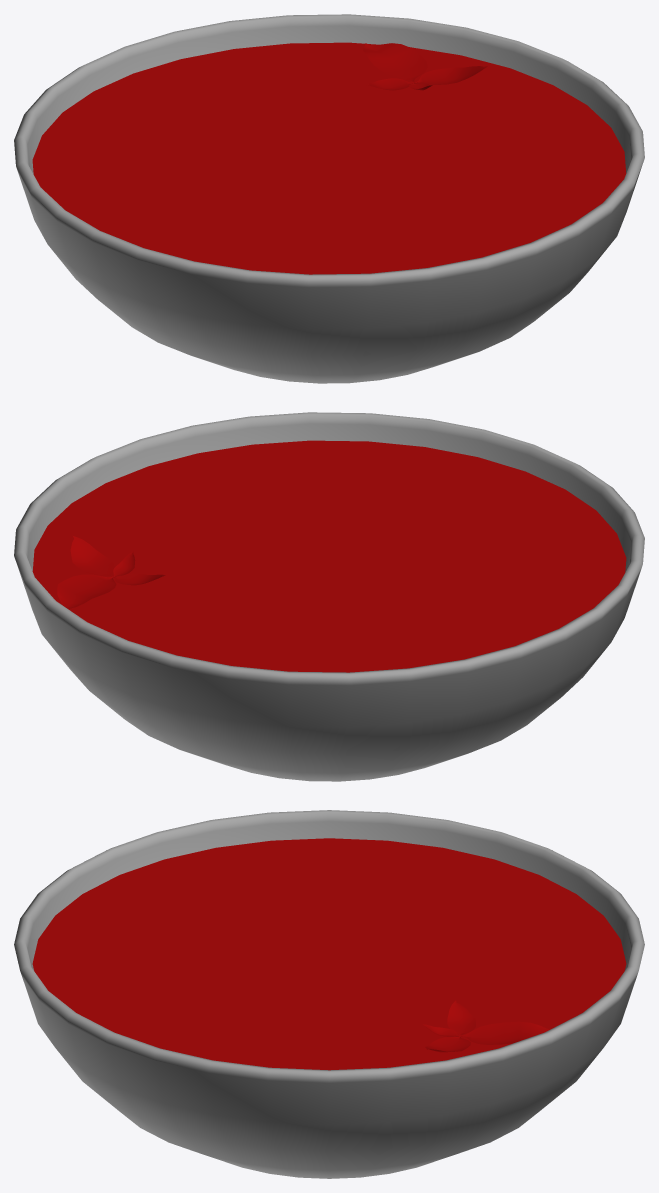
The model's file is FullBowl4.fbx.
3 views of the same model, one above another, from view 1: azimuth 30°, elevation 25°; view 2: azimuth 150°, elevation 25°; view 3: azimuth 270°, elevation 25° (orthographic).
Visible parts, largest first — view 1: Sphere.001_Sphere.000, Sphere; view 2: Sphere.001_Sphere.000, Sphere; view 3: Sphere.001_Sphere.000, Sphere.
Part boxes in pixels (left/top/right/bottom): Sphere.001_Sphere.000: left=32, top=42, right=626, bottom=274; Sphere: left=14, top=14, right=644, bottom=383; Sphere.001_Sphere.000: left=32, top=440, right=626, bottom=672; Sphere: left=14, top=412, right=644, bottom=781; Sphere.001_Sphere.000: left=32, top=838, right=626, bottom=1070; Sphere: left=14, top=810, right=644, bottom=1178.
Bounding box in the file's own units: 196 × 58.91 × 196.
